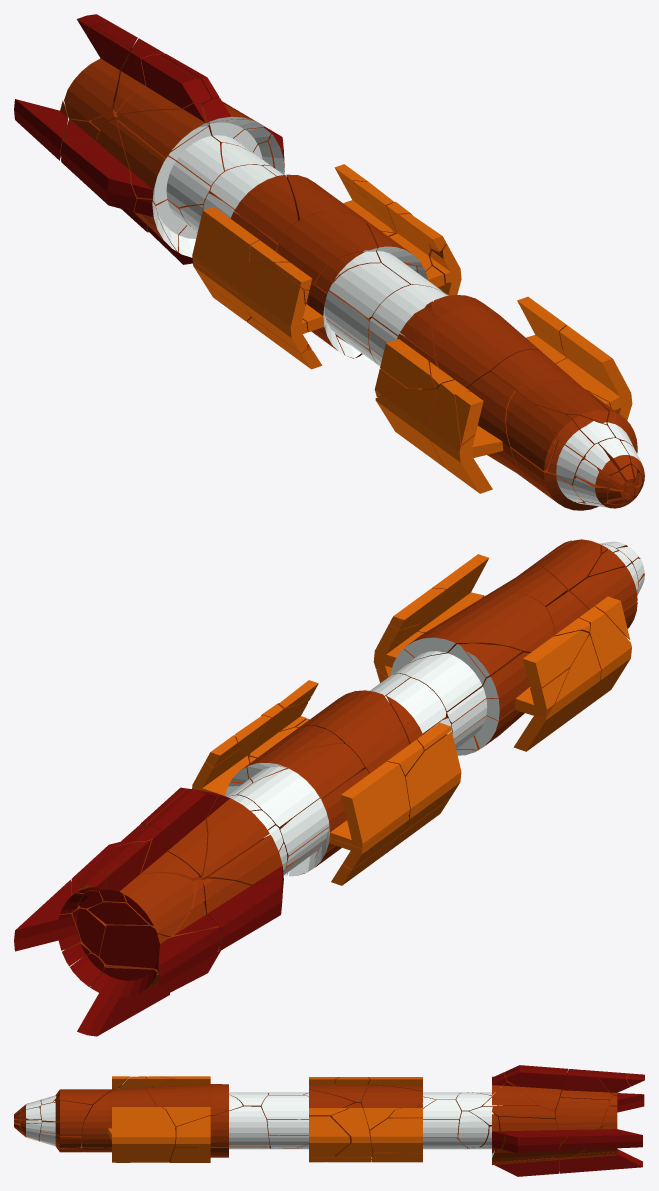
Rendered from Rocket5Broken.fbx.
The picture shows the model from 3 angles, top to bottom: view 1: azimuth 30°, elevation 25°; view 2: azimuth 150°, elevation 25°; view 3: azimuth 270°, elevation 25°; orthographic projection. The views are drawn at different scales.
Parts seen in each view (by area): view 1: Cylinder.001_cell.039, Cylinder.001_cell.118, Cylinder.001_cell.006, Cylinder.001_cell.001, Cylinder.001_cell.026, Cylinder.001_cell.078, Cylinder.001_cell.089, Cylinder.001_cell.013, Cylinder.001_cell.076, Cylinder.001_cell.046, Cylinder.001_cell.015, Cylinder.001_cell.104 (+31 smaller); view 2: Cylinder.001_cell.001, Cylinder.001_cell.118, Cylinder.001_cell.026, Cylinder.001_cell.006, Cylinder.001_cell.076, Cylinder.001_cell.078, Cylinder.001_cell.029, Cylinder.001_cell.039, Cylinder.001_cell.008, Cylinder.001_cell.013, Cylinder.001_cell.015, Cylinder.001_cell.095 (+26 smaller); view 3: Cylinder.001_cell.046, Cylinder.001_cell.034, Cylinder.001_cell.048, Cylinder.001_cell.087, Cylinder.001_cell.075, Cylinder.001_cell.118, Cylinder.001_cell.080, Cylinder.001_cell.109, Cylinder.001_cell.064, Cylinder.001_cell.032, Cylinder.001_cell.092, Cylinder.001_cell (+42 smaller).
Boxes of the visible parts, left/top/right/bottom form: Cylinder.001_cell.039: left=429, top=371, right=557, bottom=493; Cylinder.001_cell.118: left=432, top=295, right=541, bottom=388; Cylinder.001_cell.006: left=276, top=211, right=380, bottom=290; Cylinder.001_cell.001: left=192, top=193, right=278, bottom=294; Cylinder.001_cell.026: left=210, top=165, right=297, bottom=243; Cylinder.001_cell.078: left=61, top=119, right=138, bottom=211; Cylinder.001_cell.089: left=117, top=119, right=217, bottom=207; Cylinder.001_cell.013: left=240, top=262, right=307, bottom=353; Cylinder.001_cell.076: left=64, top=26, right=129, bottom=120; Cylinder.001_cell.046: left=556, top=325, right=632, bottom=420; Cylinder.001_cell.015: left=116, top=54, right=211, bottom=114; Cylinder.001_cell.104: left=315, top=251, right=410, bottom=318; Cylinder.001_cell.001: left=278, top=761, right=409, bottom=855; Cylinder.001_cell.118: left=404, top=592, right=554, bottom=662; Cylinder.001_cell.026: left=237, top=743, right=364, bottom=829; Cylinder.001_cell.006: left=302, top=691, right=409, bottom=773; Cylinder.001_cell.076: left=105, top=840, right=194, bottom=936; Cylinder.001_cell.078: left=202, top=877, right=283, bottom=951; Cylinder.001_cell.029: left=77, top=965, right=169, bottom=1036; Cylinder.001_cell.039: left=546, top=591, right=631, bottom=714; Cylinder.001_cell.008: left=496, top=634, right=600, bottom=751; Cylinder.001_cell.013: left=401, top=731, right=461, bottom=833; Cylinder.001_cell.015: left=147, top=788, right=217, bottom=876; Cylinder.001_cell.095: left=99, top=902, right=219, bottom=969; Cylinder.001_cell.046: left=110, top=1107, right=175, bottom=1162; Cylinder.001_cell.034: left=174, top=1106, right=270, bottom=1146; Cylinder.001_cell.048: left=480, top=1116, right=560, bottom=1162; Cylinder.001_cell.087: left=370, top=1118, right=459, bottom=1152; Cylinder.001_cell.075: left=82, top=1087, right=156, bottom=1147; Cylinder.001_cell.118: left=144, top=1084, right=242, bottom=1127; Cylinder.001_cell.080: left=361, top=1085, right=435, bottom=1132; Cylinder.001_cell.109: left=261, top=1089, right=354, bottom=1119; Cylinder.001_cell.064: left=506, top=1070, right=566, bottom=1110; Cylinder.001_cell.032: left=305, top=1102, right=372, bottom=1156; Cylinder.001_cell.092: left=559, top=1125, right=642, bottom=1150; Cylinder.001_cell: left=554, top=1097, right=610, bottom=1126.
Size of the model in its own units: 0.3599 by 0.358 by 1.93.
